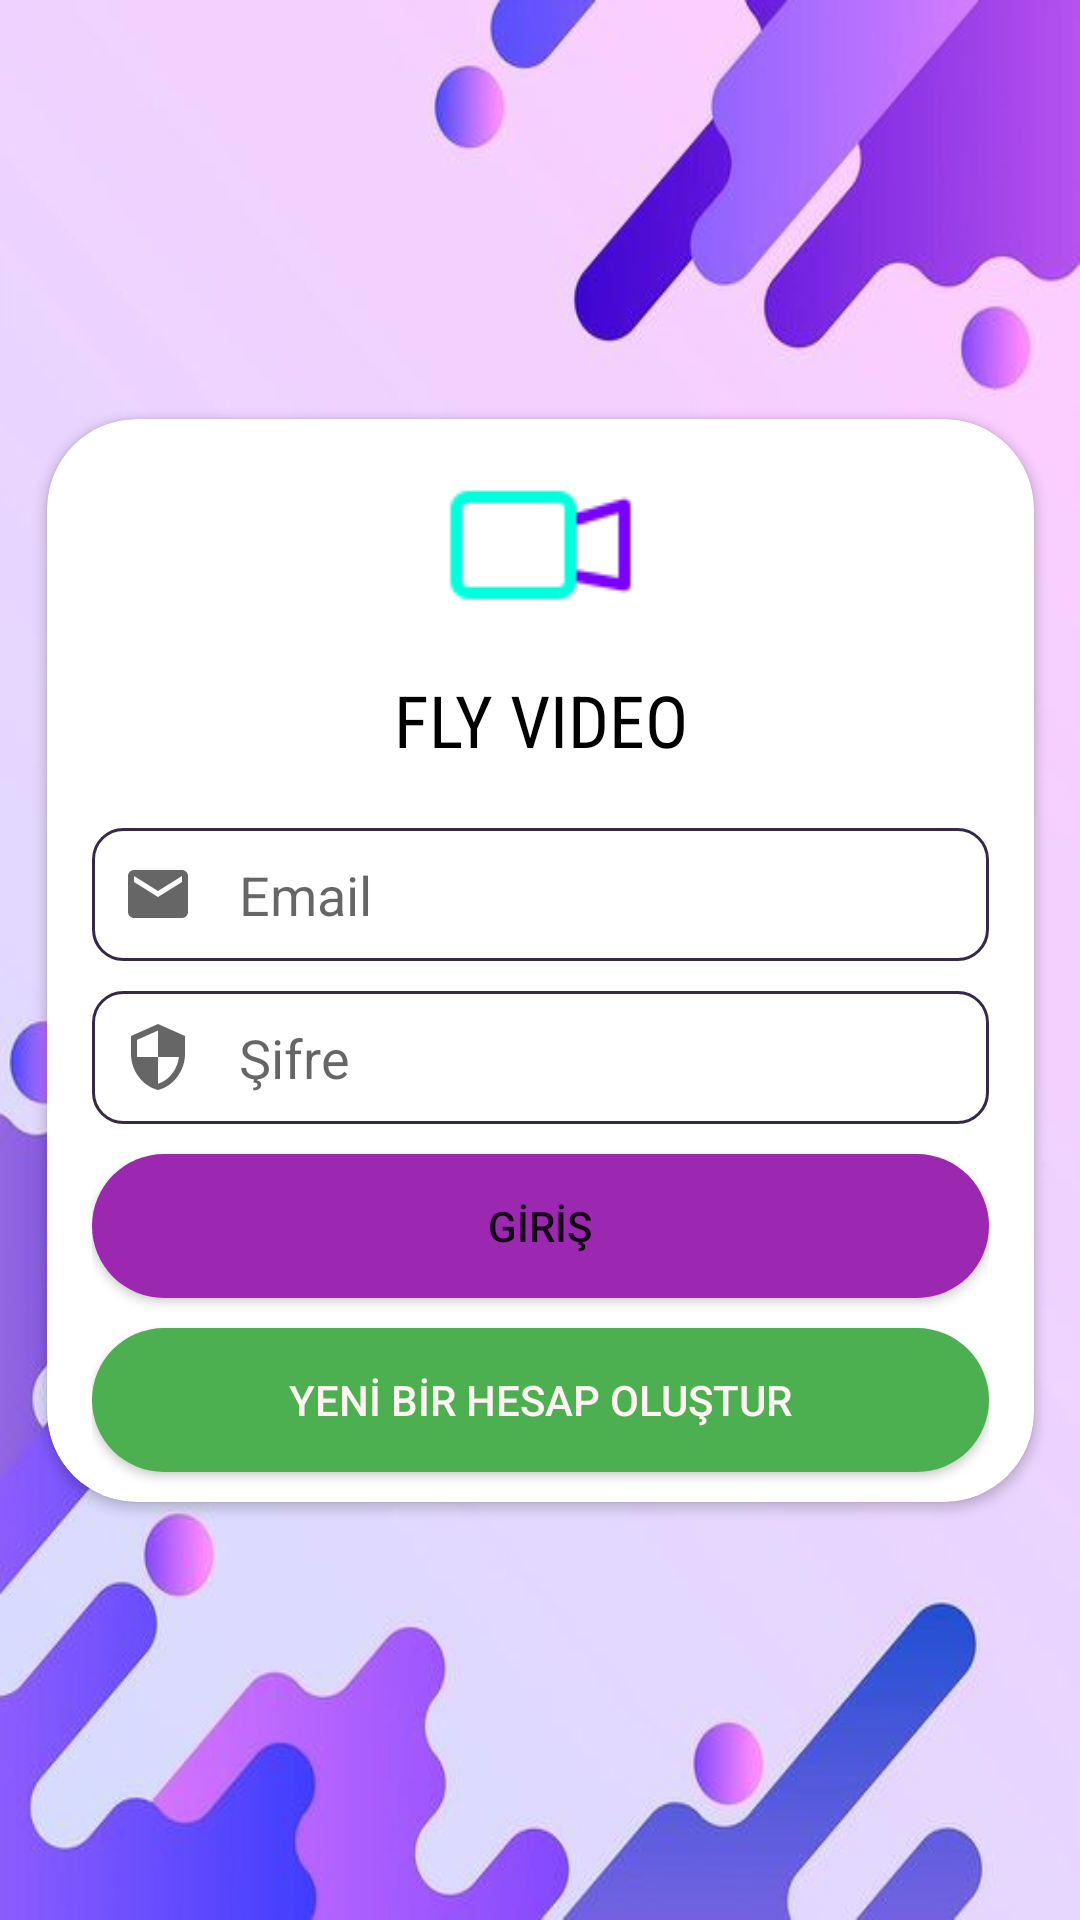

Named icons in this screenshot (1080*1920) and their centers, point (x, y):
videocall: point (540, 545)
